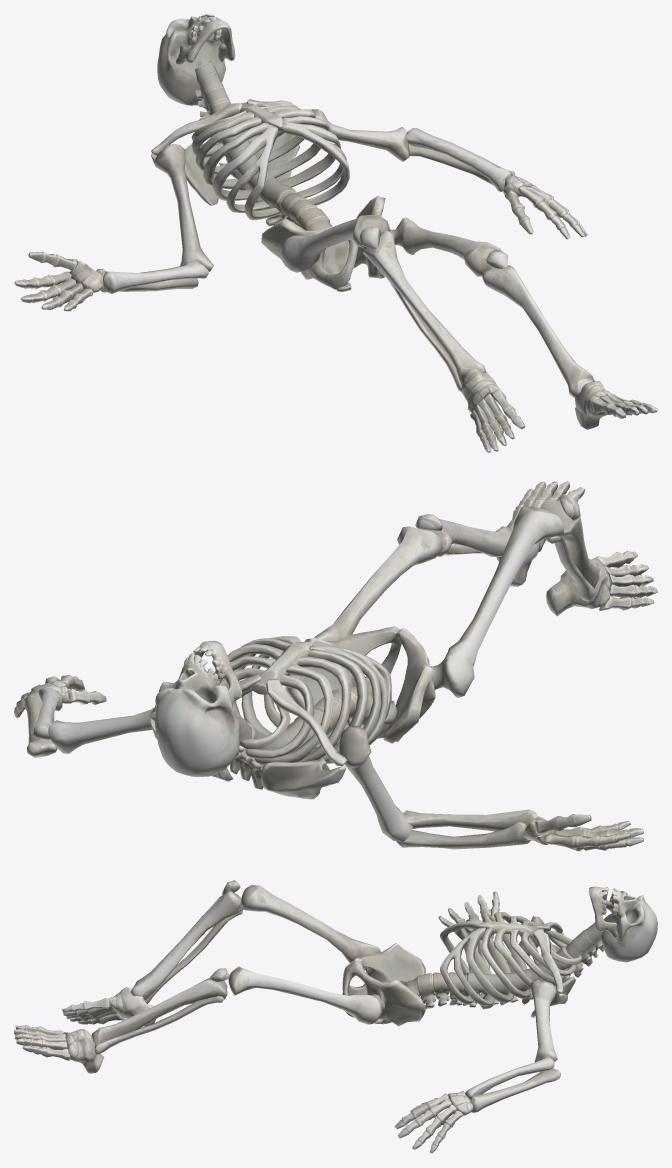
3 views of the same model, one above another, from view 1: azimuth 30°, elevation 25°; view 2: azimuth 150°, elevation 25°; view 3: azimuth 270°, elevation 25° (orthographic). The views are drawn at different scales.
Visible parts, largest first — view 1: SM_FullBody_06_LOD0; view 2: SM_FullBody_06_LOD0; view 3: SM_FullBody_06_LOD0.
Part boxes in pixels (<box>): SM_FullBody_06_LOD0: <box>14,14,657,452</box>; SM_FullBody_06_LOD0: <box>14,481,657,851</box>; SM_FullBody_06_LOD0: <box>14,880,657,1153</box>.
Size of the model in its own units: 1.49 by 0.5272 by 1.89.
1 material, 1 textured.
